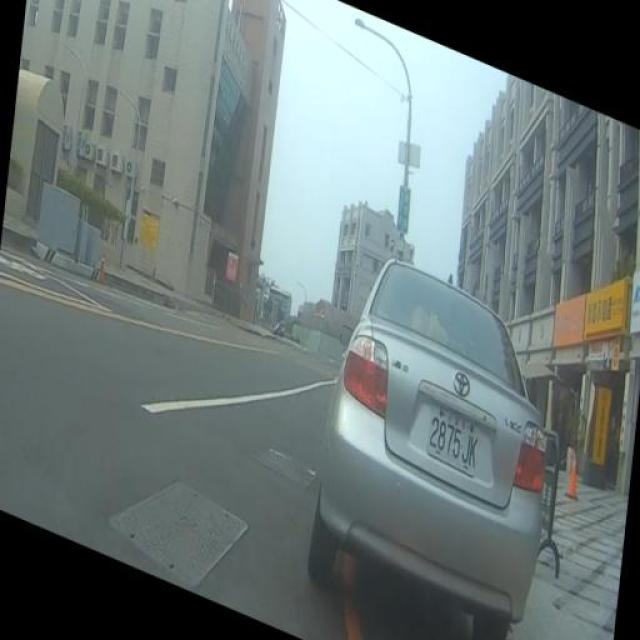illegalparking: (282, 240, 582, 638)
